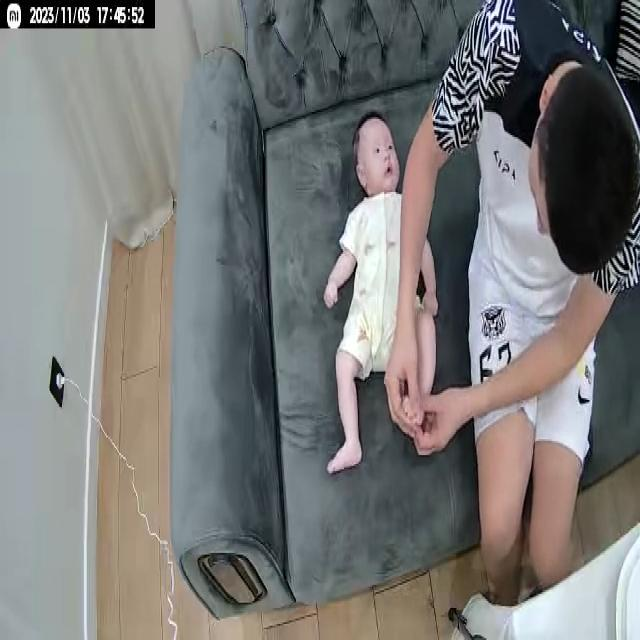baby: (323, 109, 439, 477)
